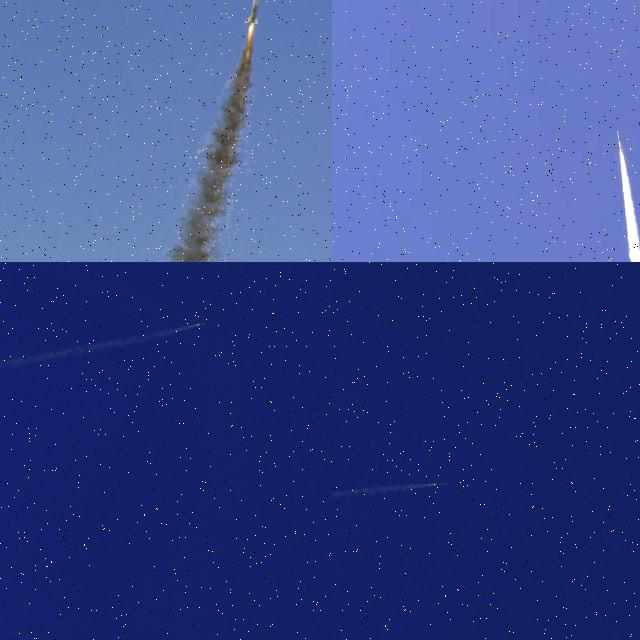Rocket: (244, 0, 259, 24), (618, 131, 622, 150), (198, 321, 210, 327), (432, 482, 449, 486)
